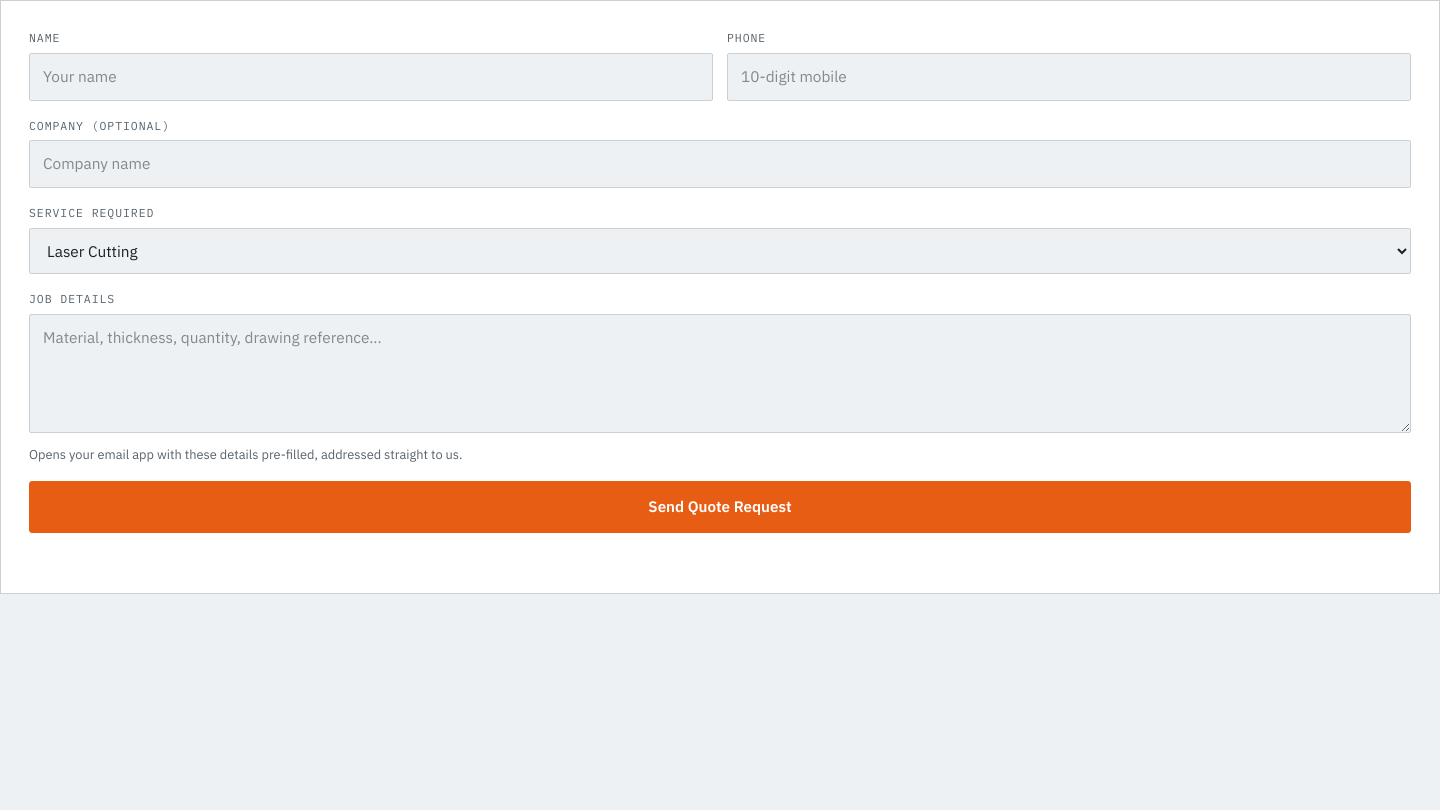
Test: QuoteForm › opens a pre-filled mailto link on valid submit
This screenshot has width=1440, height=810.
Type "Asha Patil" into the field labelled "Name" at (371, 77), box [29,53,713,101]
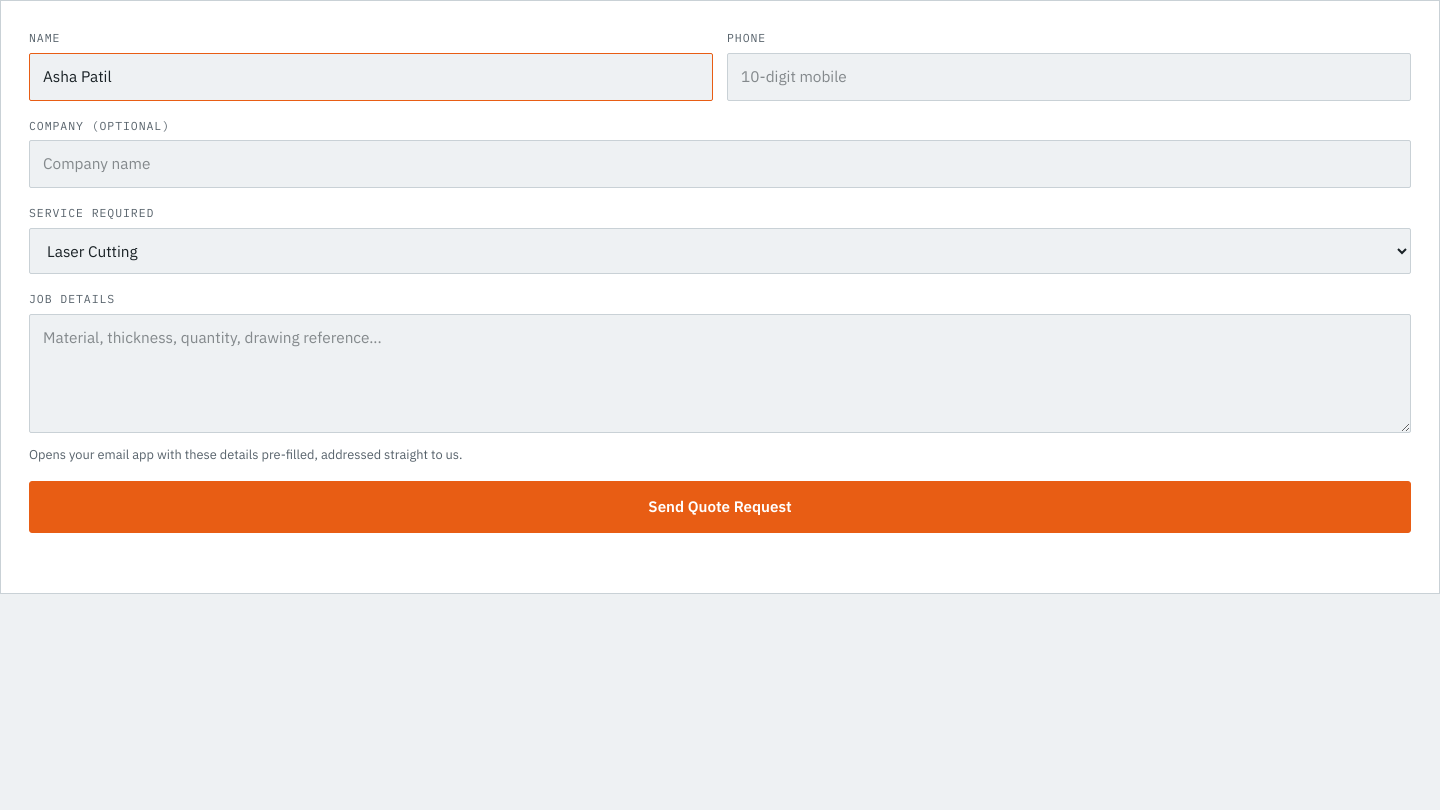
Type "+91 98765 43210" into the field labelled "Phone" at (1069, 77), box [727,53,1411,101]
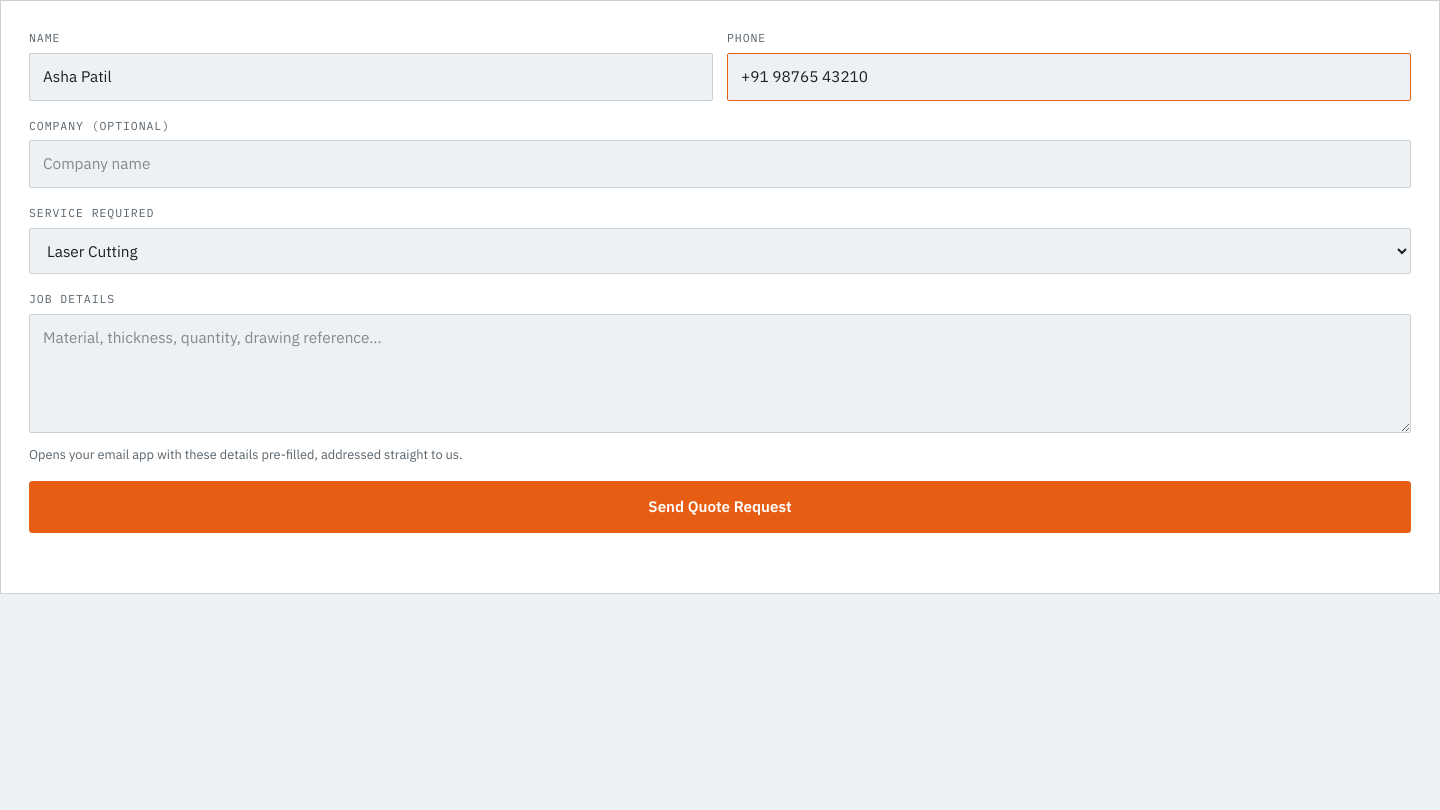
Type "Acme Engg" into the field labelled "Company (optional)" at (720, 164), box [29,140,1411,188]
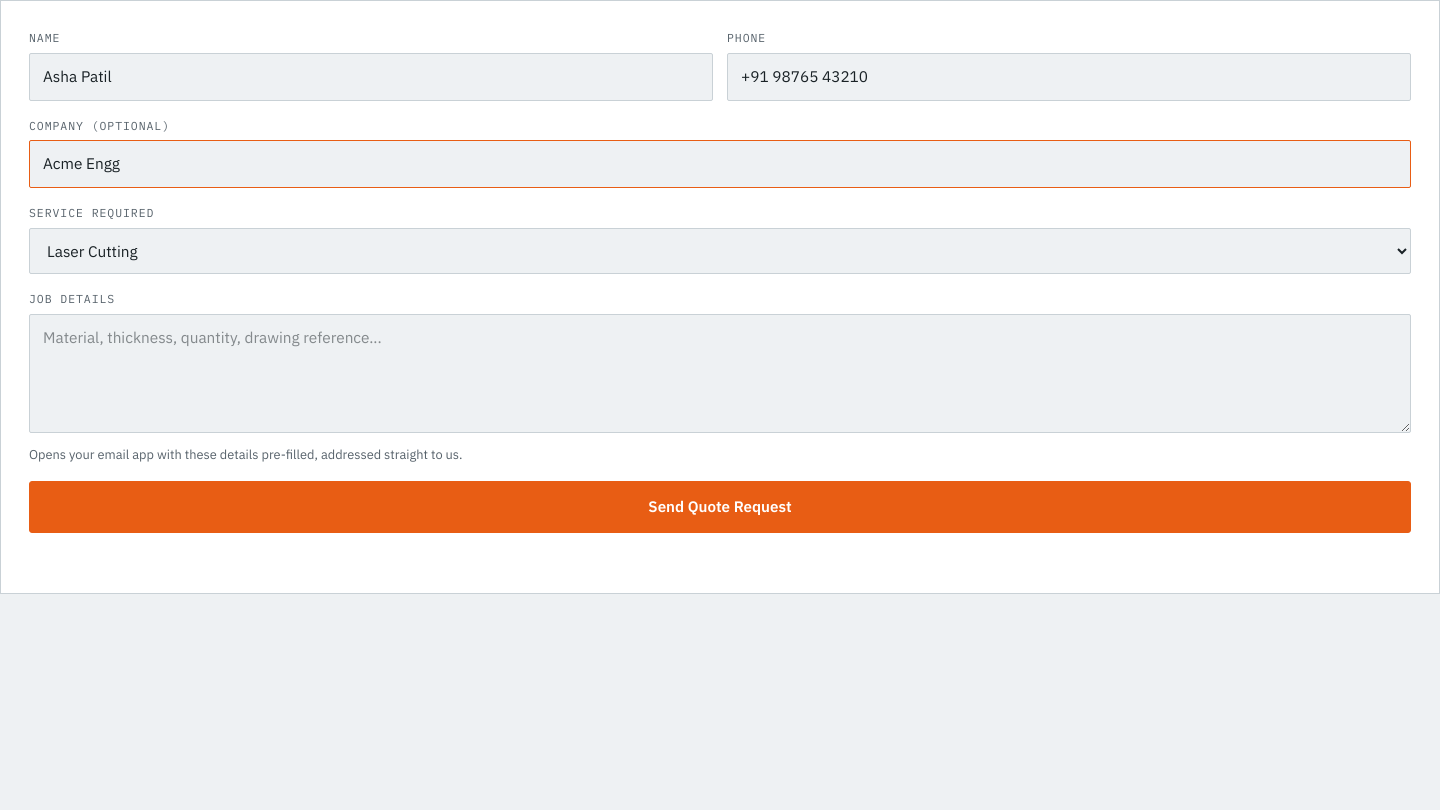
Select "Cable Tray Manufacturing" in the dropdown labelled "Service Required" at (720, 251), box [29,228,1411,274]
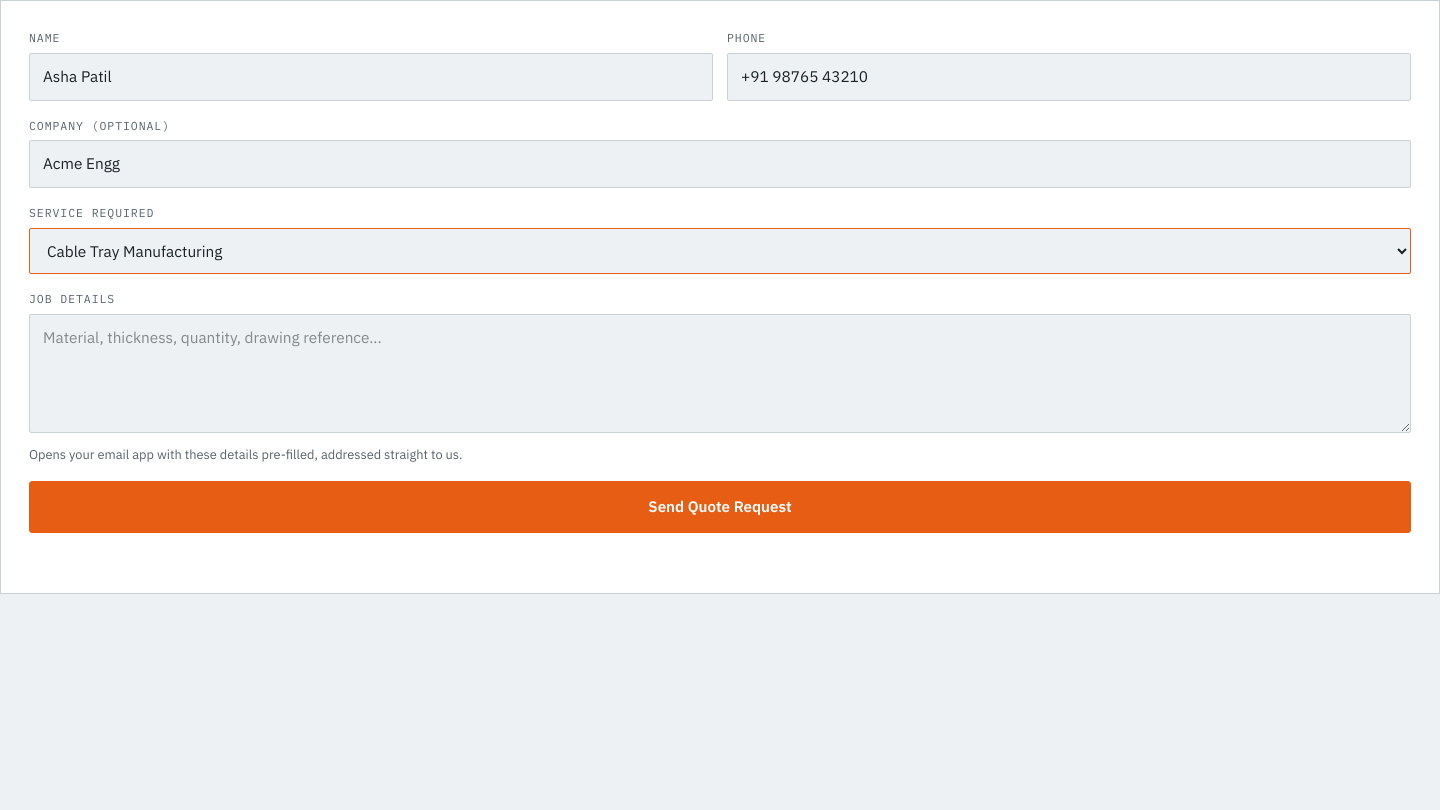
Type "SS304, 2mm, 50 pcs" into the text box labelled "Job Details" at (720, 374), box [29,314,1411,433]
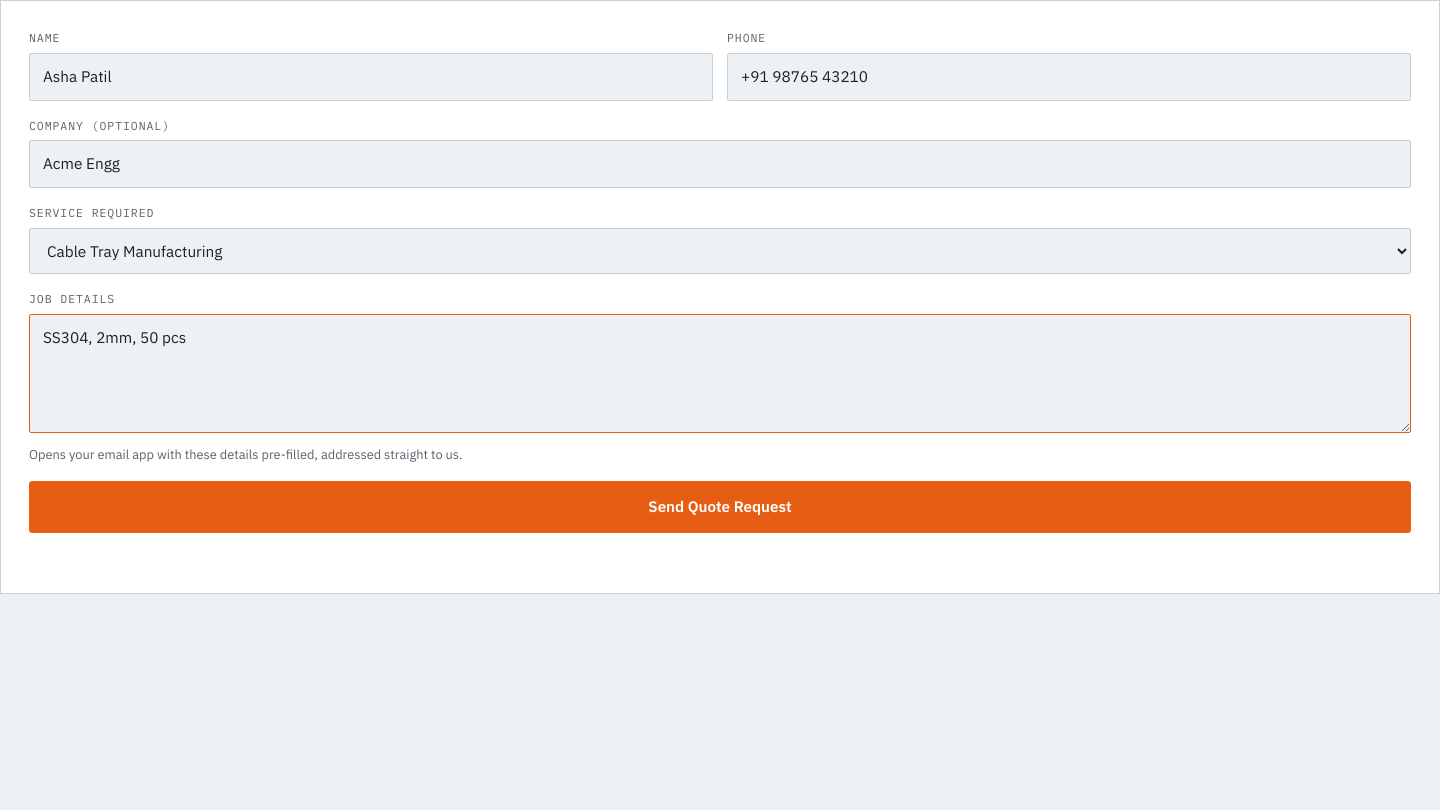
Click the button "Send Quote Request" at (720, 507), box [29,481,1411,533]
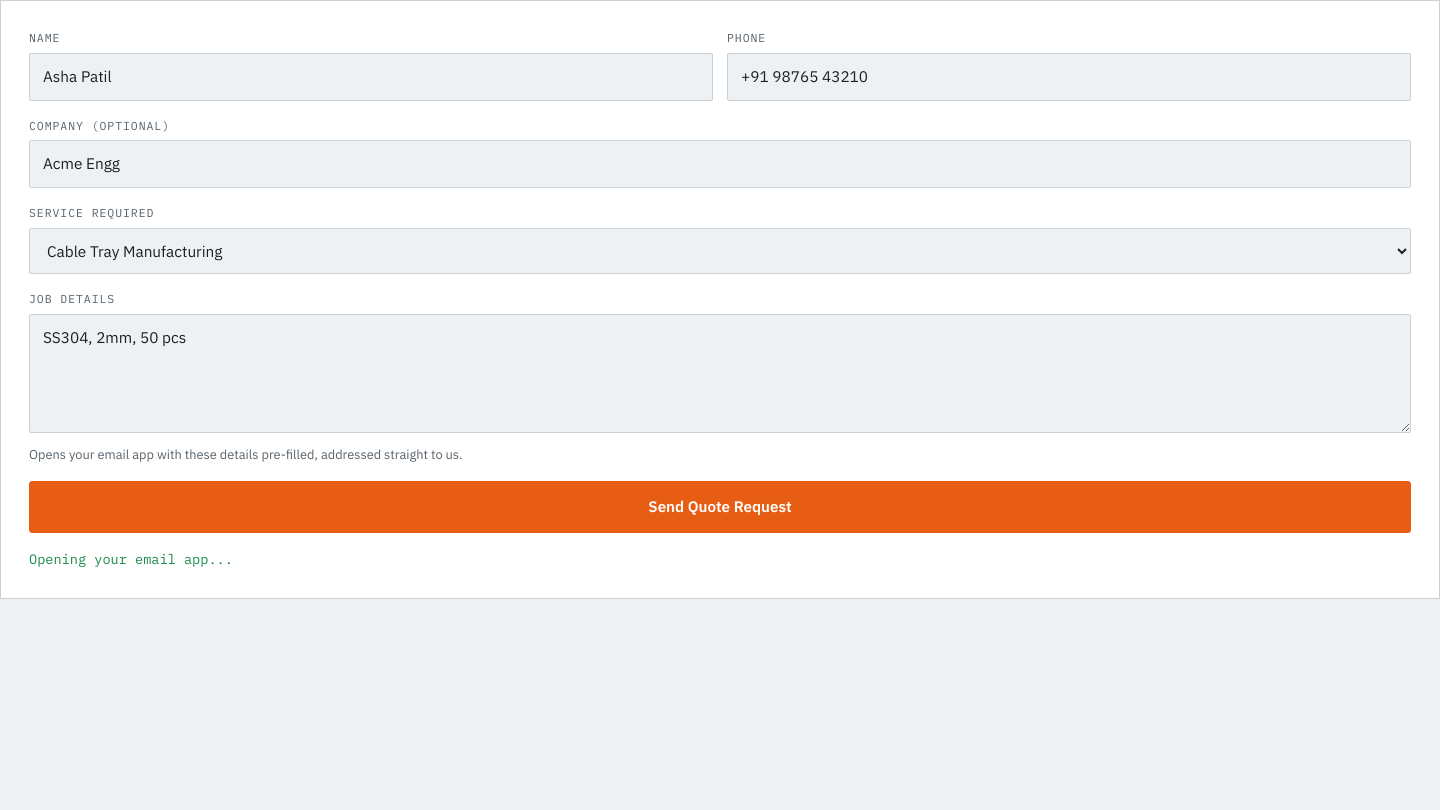
Check: the text "Opening your email app..." is shown, box [29,550,233,568]
